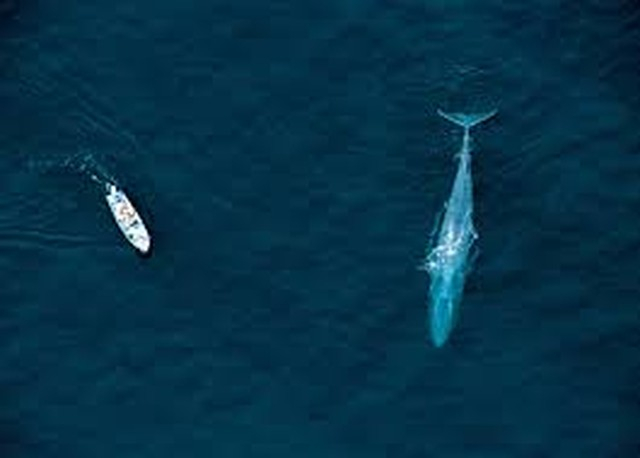whale: (416, 100, 507, 356)
